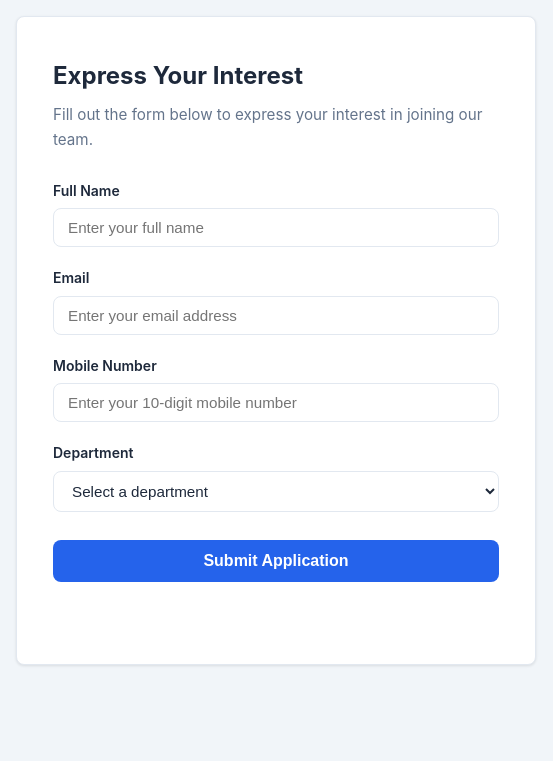
Test: InterestForm › shows success banner on valid submission with all fields filled
In the field labelled "Full Name": (276, 228) [53,208,499,247], type "John Doe"
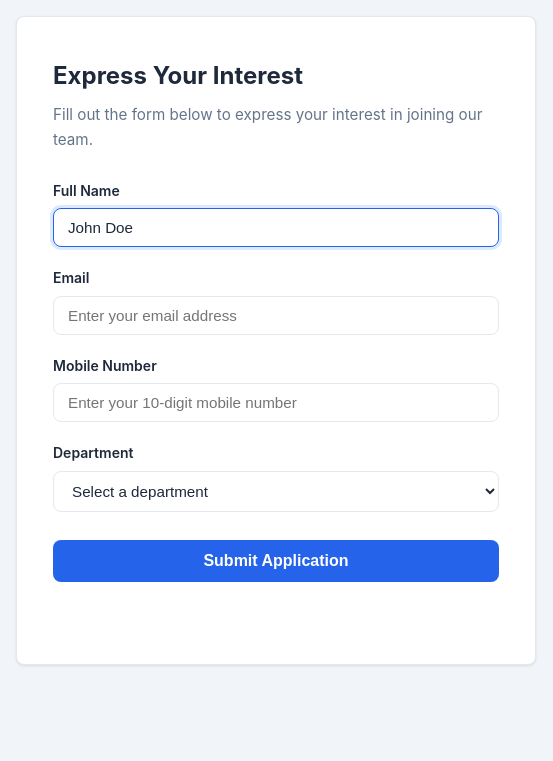
In the field labelled "Email": (276, 315) [53,296,499,335], type "john@example.com"
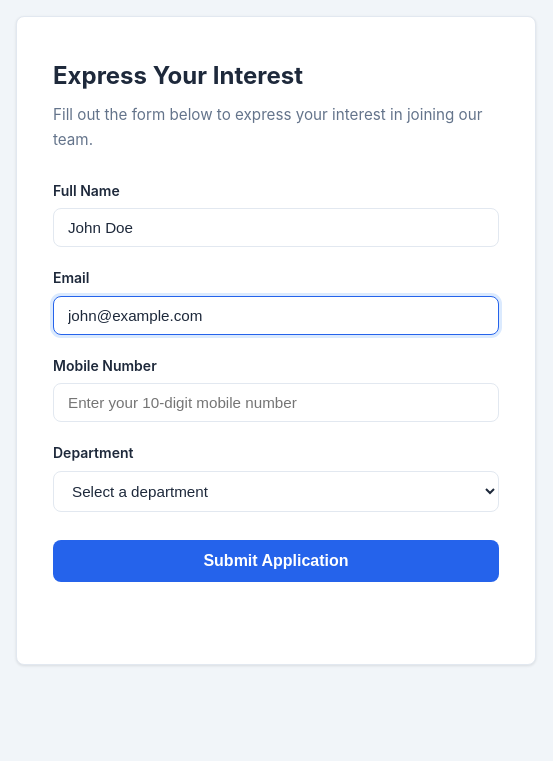
In the field labelled "Mobile Number": (276, 403) [53,383,499,422], type "9876543210"
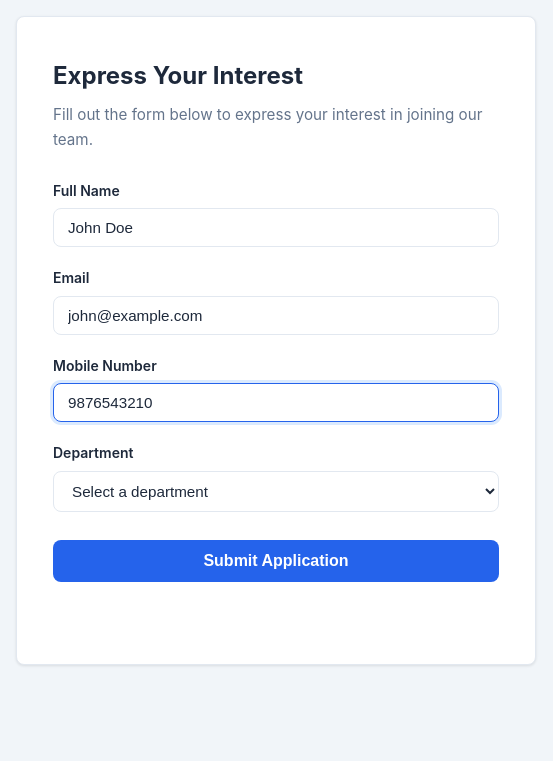
Select "Engineering" in the dropdown labelled "Department": (276, 491) [53,471,499,512]
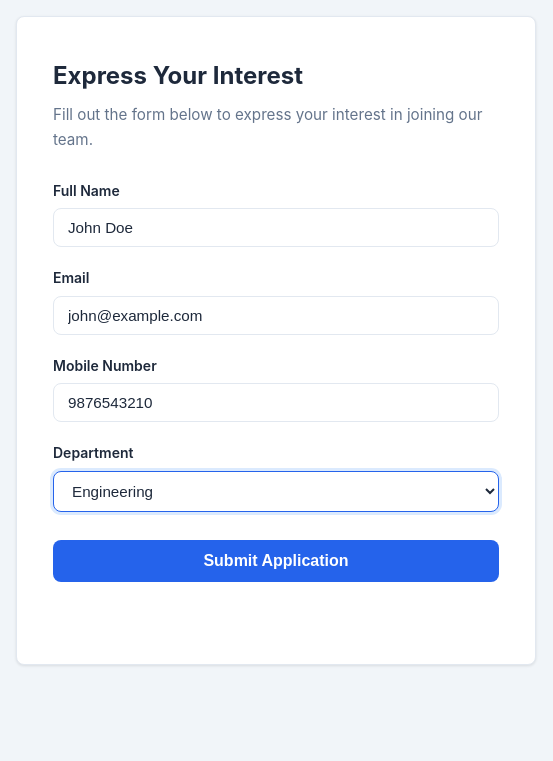
Click the button "Submit Application": (276, 561) [53,540,499,582]
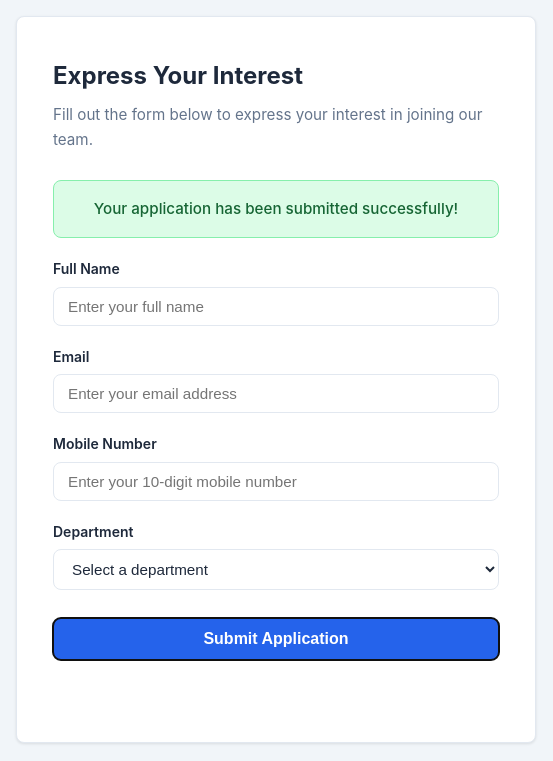
Check: the text "Your application has been submitted successfully!" is shown, box [53,180,499,238]
